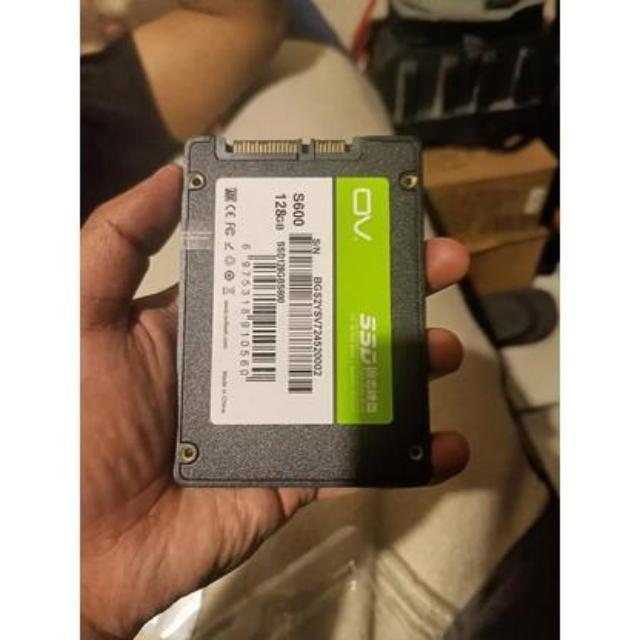DISK: (168, 129, 440, 497)
